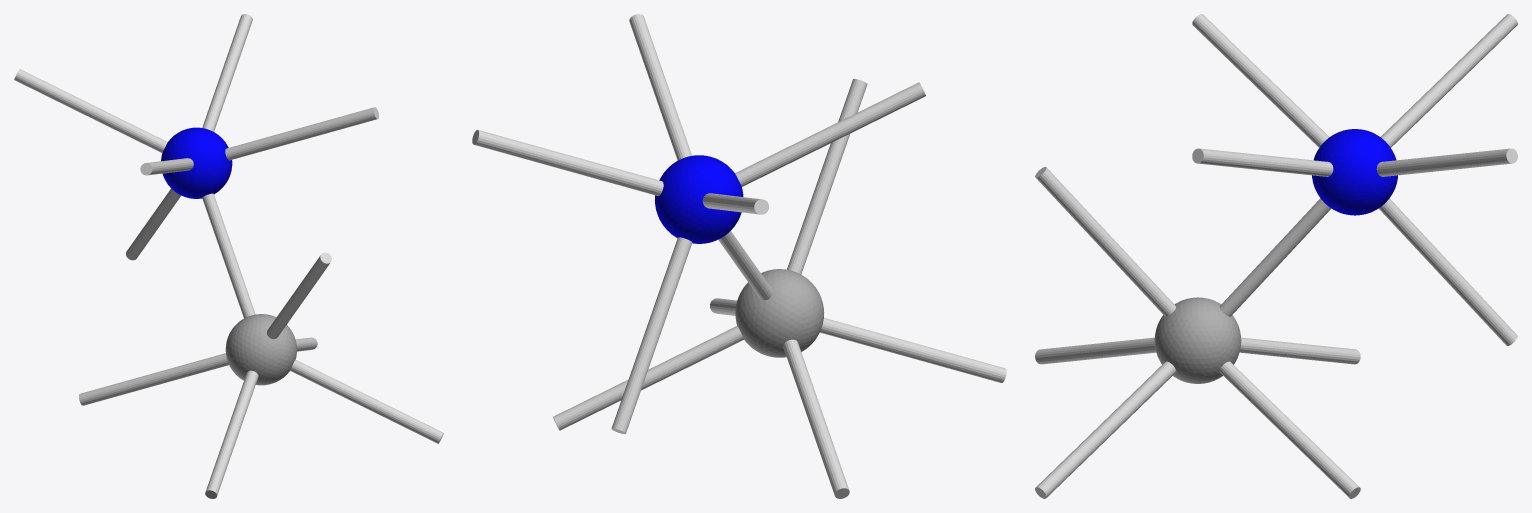
File: structure_mpstyle.glb
3 views of the same model, side by side, from view 1: azimuth 30°, elevation 25°; view 2: azimuth 150°, elevation 25°; view 3: azimuth 270°, elevation 25° (orthographic). The views are drawn at different scales.
Visible parts, largest first — view 1: world; view 2: world; view 3: world.
Boxes of the visible parts, x1=… form: world: x1=14, y1=14, x2=443, y2=498; world: x1=472, y1=14, x2=1006, y2=498; world: x1=1035, y1=14, x2=1517, y2=498.
Bounding box in the file's own units: 3.08 × 3.56 × 4.46.
